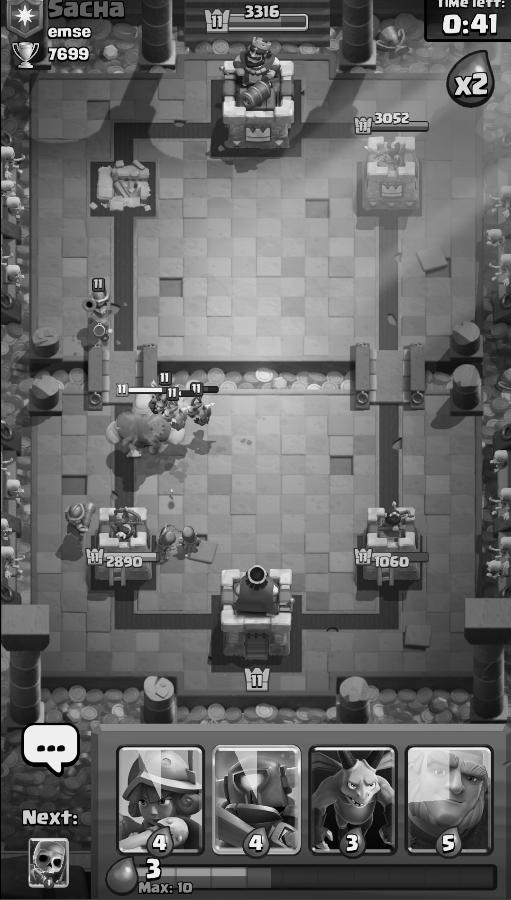archere: (176, 525, 204, 558), (156, 526, 175, 561)
gargouille: (144, 387, 179, 414), (185, 399, 216, 427), (163, 403, 190, 435)
geant: (99, 393, 189, 457)
mousquetaire: (80, 289, 120, 343), (65, 498, 96, 548)
